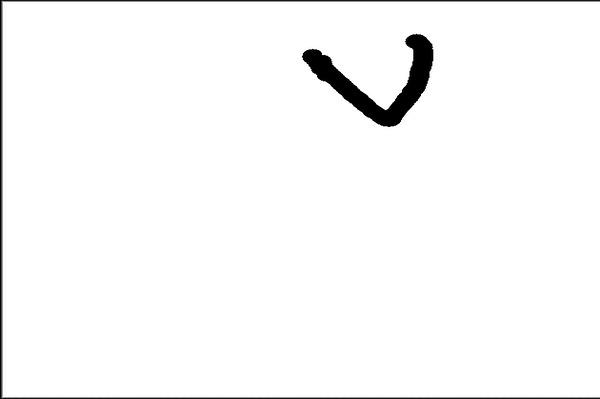V: (302, 23, 448, 131)
